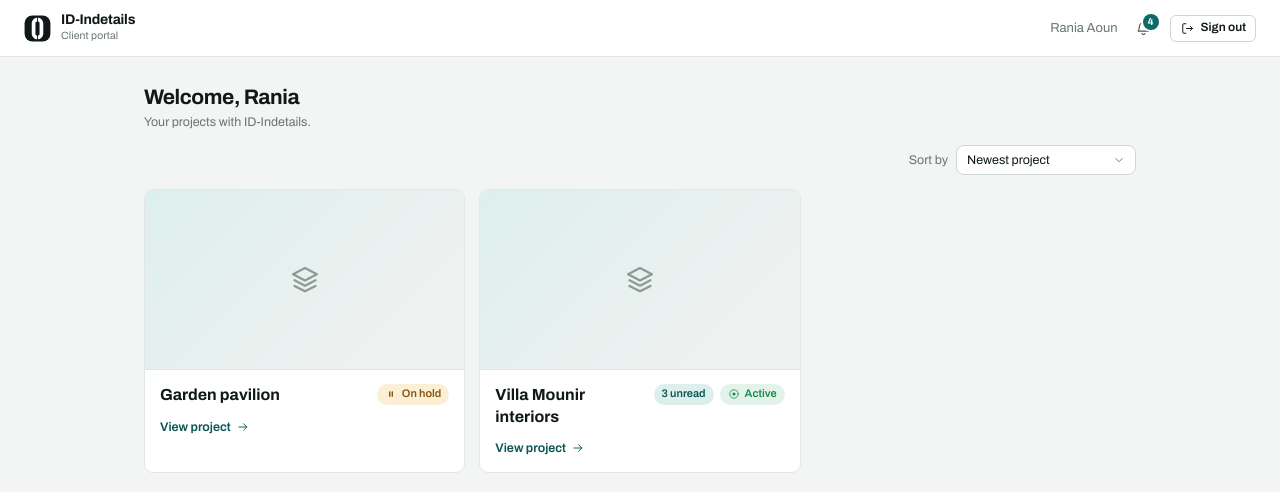
Scenario: The portal's bell › lists the newest first with the words, the time and an unread dot, and loads the older ones on request
Click the button named "Notifications, 4 unread": x=1144, y=28 [1128, 12, 1160, 44]
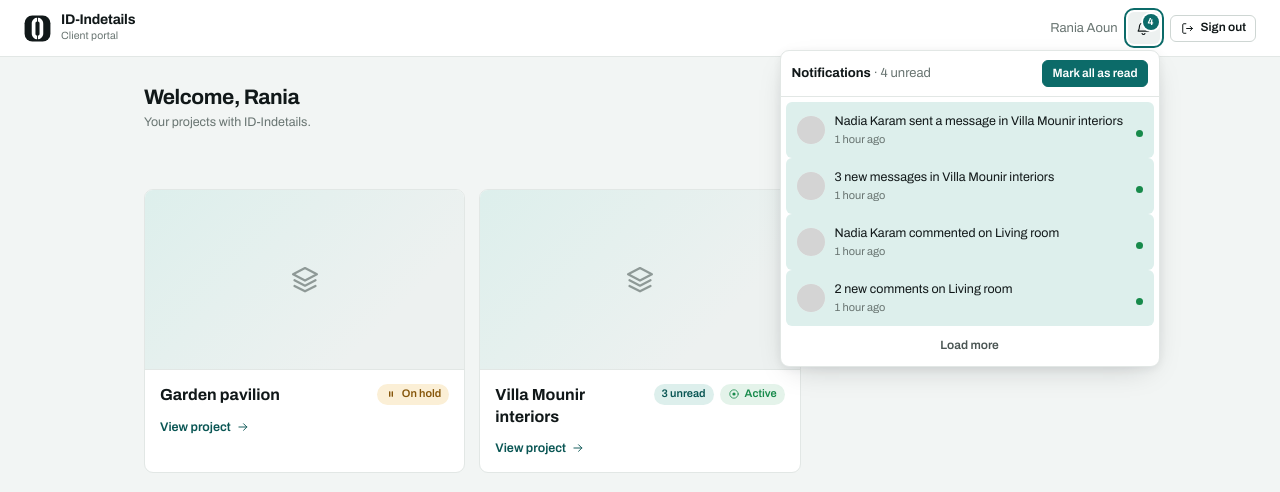
Expected: the text "1 hour ago" is shown 4 times, [834, 133, 885, 145]; [834, 189, 885, 201]; [834, 245, 885, 257]; [834, 301, 885, 313]
Expected: the number of elements with class "dot" is 4, [1136, 130, 1142, 136]; [1136, 186, 1142, 193]; [1136, 242, 1142, 249]; [1136, 298, 1142, 305]
Expected: the text "· 4 unread" is shown, [871, 66, 931, 80]
Click the button "Load more": x=970, y=346 [930, 332, 1009, 359]
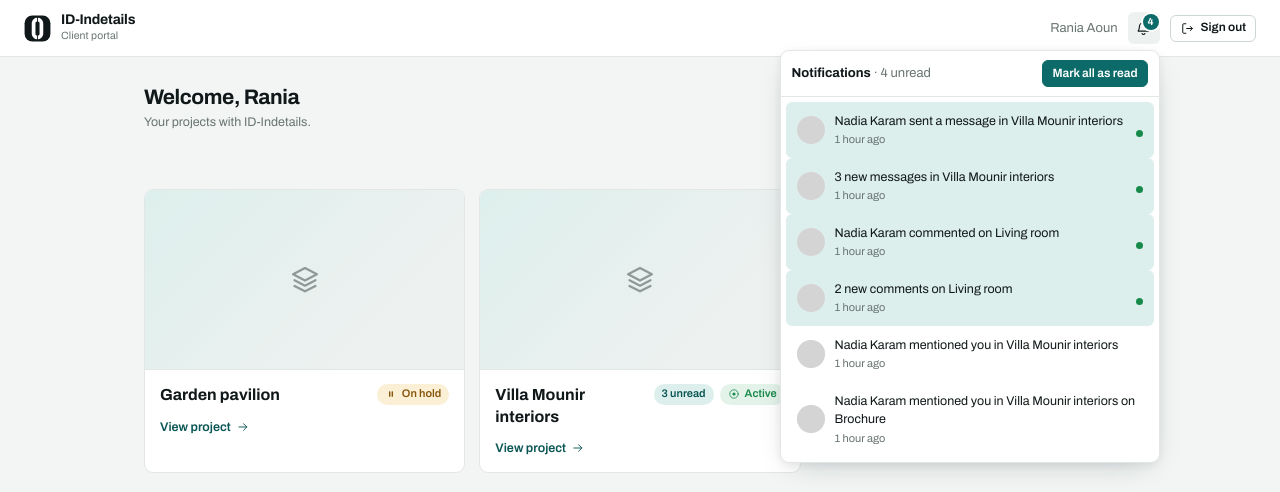
Expected: the number of buttons with class "unread" is 4, [786, 102, 1154, 158]; [786, 158, 1154, 214]; [786, 214, 1154, 270]; [786, 270, 1154, 326]
Expected: the button "Load more" is gone
